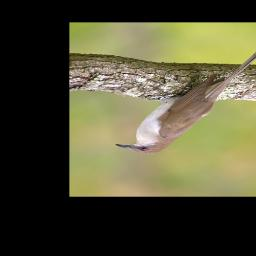Cuckoo: (113, 45, 256, 155)
